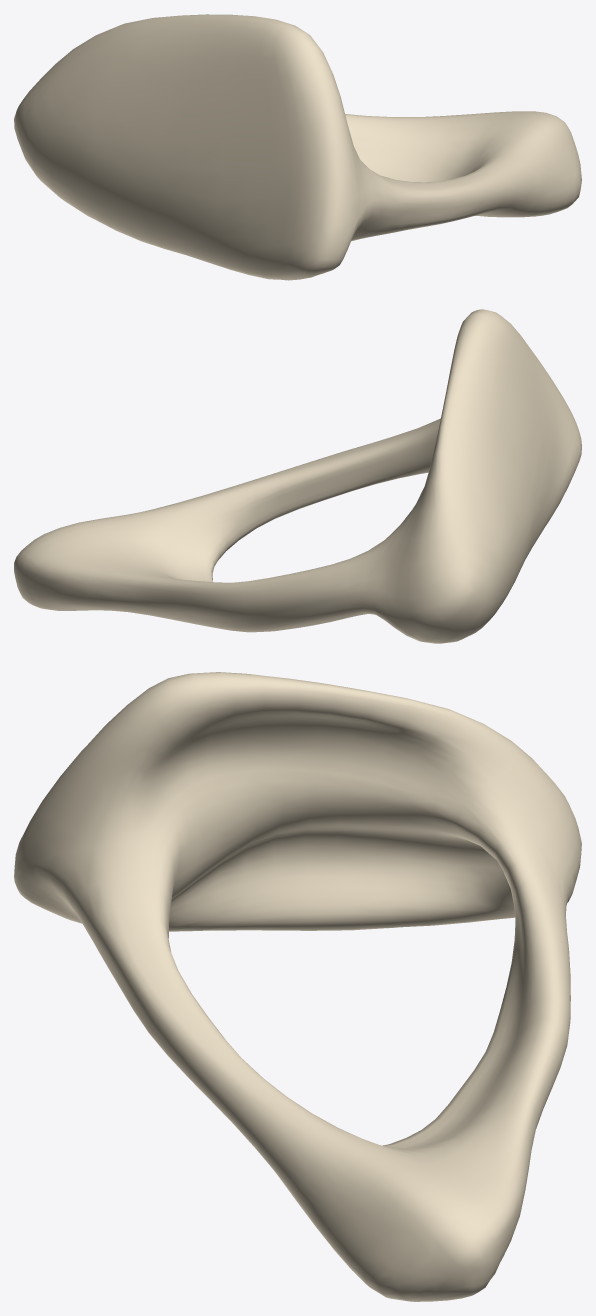
Rendered from stapes-l.glb.
3 renders of one model, top to bottom at view 1: azimuth 30°, elevation 25°; view 2: azimuth 150°, elevation 25°; view 3: azimuth 270°, elevation 25°, orthographic. The views are drawn at different scales.
Parts seen in each view (by area): view 1: Stapes.l; view 2: Stapes.l; view 3: Stapes.l.
Boxes of the visible parts, x1=… form: Stapes.l: x1=14, y1=14, x2=581, y2=280; Stapes.l: x1=14, y1=309, x2=581, y2=643; Stapes.l: x1=14, y1=672, x2=581, y2=1301.
Bounding box in the file's own units: 0.00405 × 0.00243 × 0.00305.
